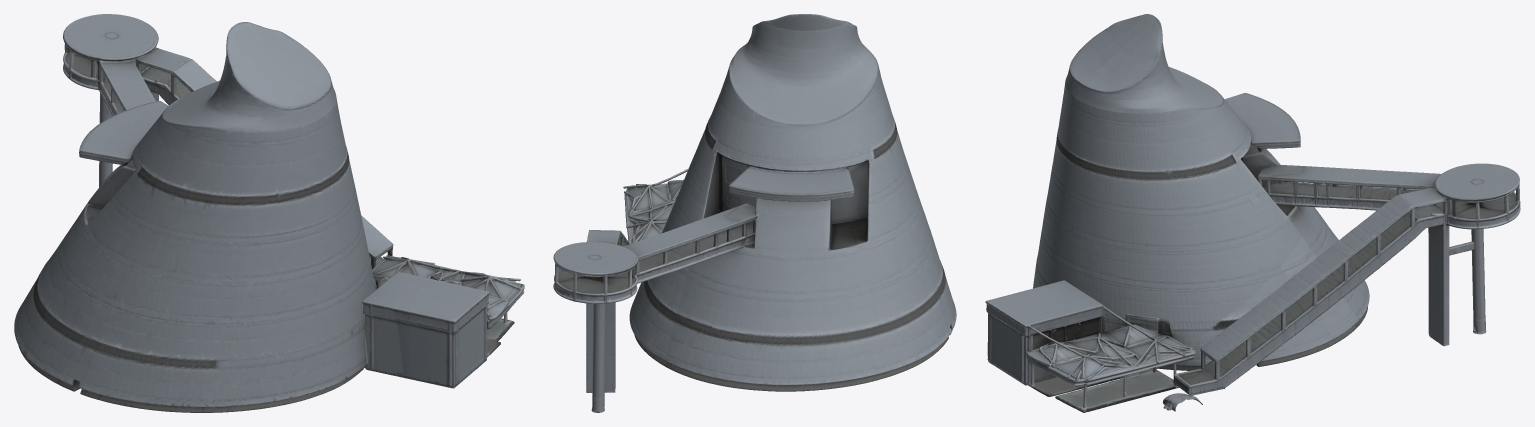
File: macau-science-center.glb
The picture shows the model from 3 angles, left to right: view 1: azimuth 30°, elevation 25°; view 2: azimuth 150°, elevation 25°; view 3: azimuth 270°, elevation 25°; orthographic projection. The views are drawn at different scales.
Parts seen in each view (by area): view 1: tripo_node_5b61c99e-2bd0-4fde-99be-3c67919665cb; view 2: tripo_node_5b61c99e-2bd0-4fde-99be-3c67919665cb; view 3: tripo_node_5b61c99e-2bd0-4fde-99be-3c67919665cb.
Boxes of the visible parts, x1,y1,x2,y2 form: tripo_node_5b61c99e-2bd0-4fde-99be-3c67919665cb: (14, 14, 524, 412); tripo_node_5b61c99e-2bd0-4fde-99be-3c67919665cb: (553, 14, 956, 412); tripo_node_5b61c99e-2bd0-4fde-99be-3c67919665cb: (985, 14, 1520, 412).
Bounding box in the file's own units: 0.7842 × 0.5904 × 0.9777.
1 material, 1 textured.
